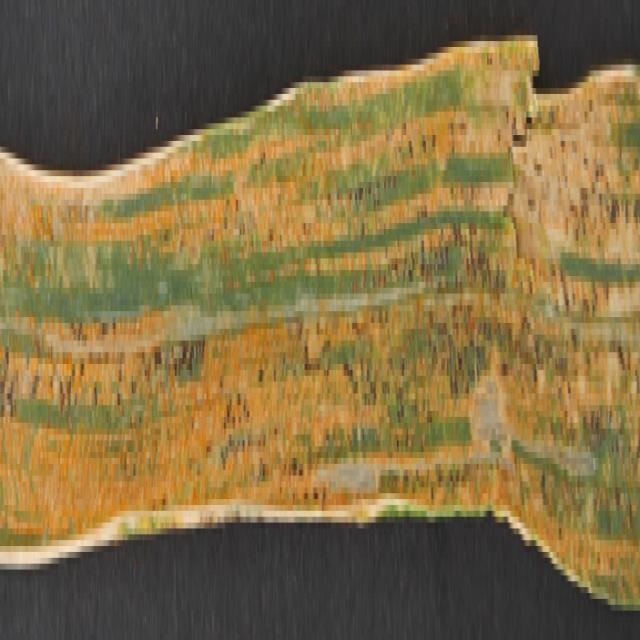leaf rust: (1, 47, 640, 587)
